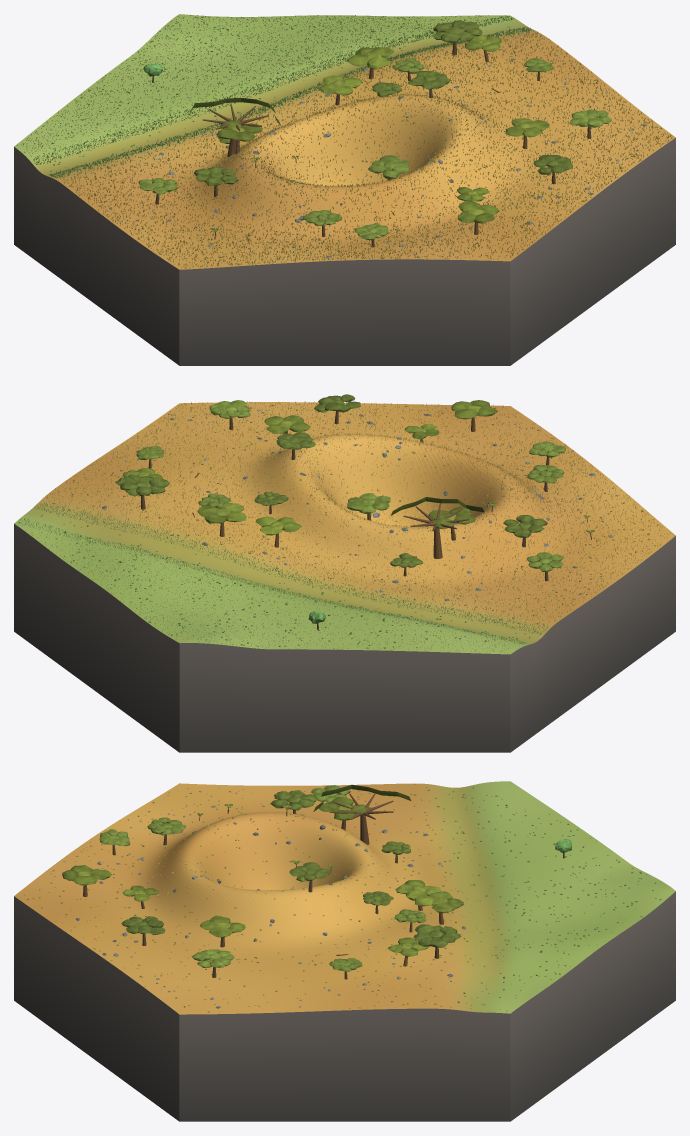
3 views of the same model, one above another, from view 1: azimuth 30°, elevation 25°; view 2: azimuth 150°, elevation 25°; view 3: azimuth 270°, elevation 25° (orthographic).
Visible parts, largest first — view 1: terrain, hex_side_cut, wildflowers, broadleaf_canopy, shrubs, trunks, boulders; view 2: terrain, hex_side_cut, wildflowers, broadleaf_canopy, shrubs, trunks, boulders; view 3: terrain, hex_side_cut, broadleaf_canopy, shrubs, trunks, boulders.
Boxes of the visible parts, left/top/right/bottom form: terrain: left=14, top=14, right=675, bottom=269; hex_side_cut: left=14, top=138, right=675, bottom=365; wildflowers: left=17, top=15, right=672, bottom=268; broadleaf_canopy: left=139, top=20, right=611, bottom=240; shrubs: left=38, top=16, right=659, bottom=266; trunks: left=152, top=41, right=591, bottom=247; boulders: left=107, top=32, right=646, bottom=259; terrain: left=14, top=402, right=675, bottom=654; hex_side_cut: left=14, top=524, right=675, bottom=752; wildflowers: left=17, top=401, right=669, bottom=653; broadleaf_canopy: left=115, top=394, right=594, bottom=623; shrubs: left=19, top=402, right=661, bottom=648; trunks: left=141, top=411, right=591, bottom=629; boulders: left=52, top=409, right=650, bottom=600; terrain: left=14, top=781, right=675, bottom=1014; hex_side_cut: left=14, top=891, right=675, bottom=1121; broadleaf_canopy: left=62, top=784, right=571, bottom=971; shrubs: left=20, top=784, right=661, bottom=1012; trunks: left=83, top=807, right=564, bottom=979; boulders: left=41, top=791, right=465, bottom=1008.
Bounding box in the file's own units: 4330 × 1363 × 5000.
